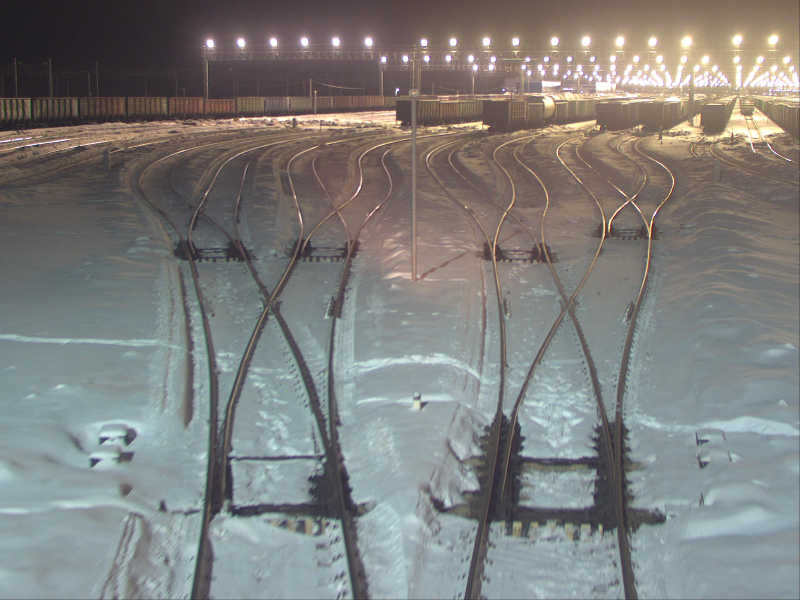railway_arrows: (503, 298, 629, 532), (215, 300, 350, 517), (479, 204, 557, 275), (174, 206, 250, 262), (297, 203, 361, 267), (595, 194, 658, 248)
